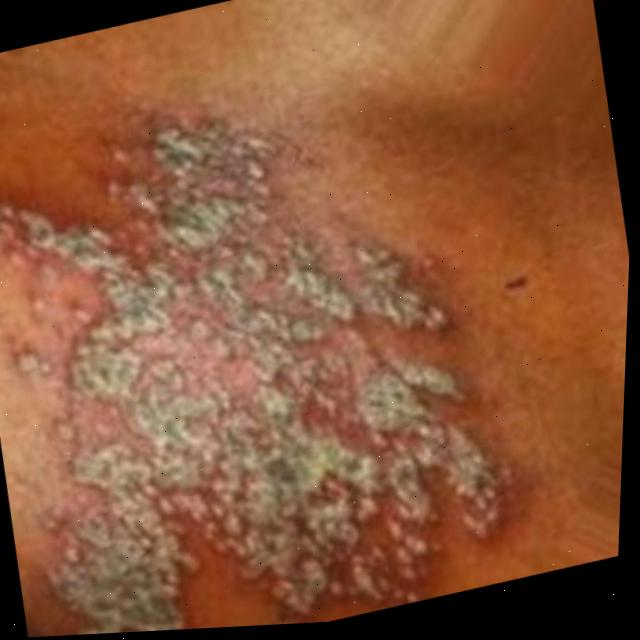Shingles: (0, 54, 561, 640)
